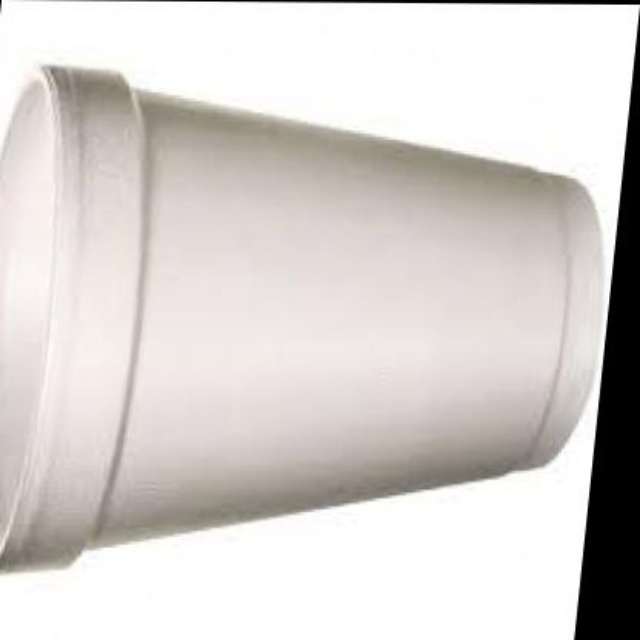trash: (0, 66, 602, 568)
